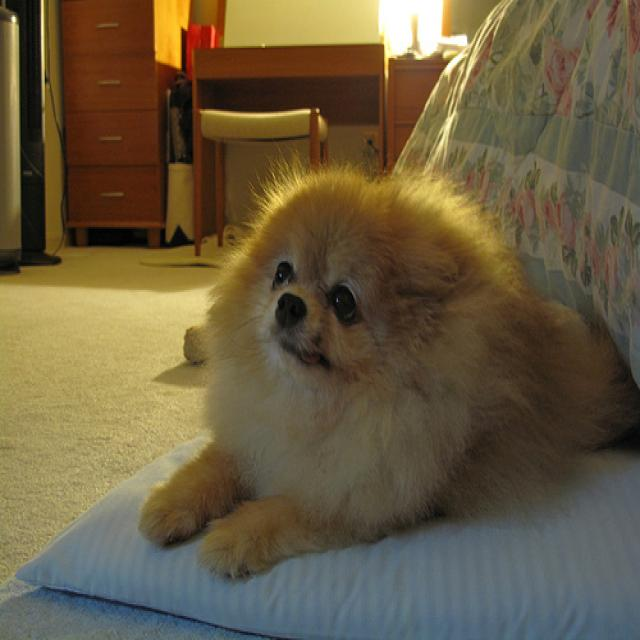dog-pomeranian: (128, 159, 637, 589)
